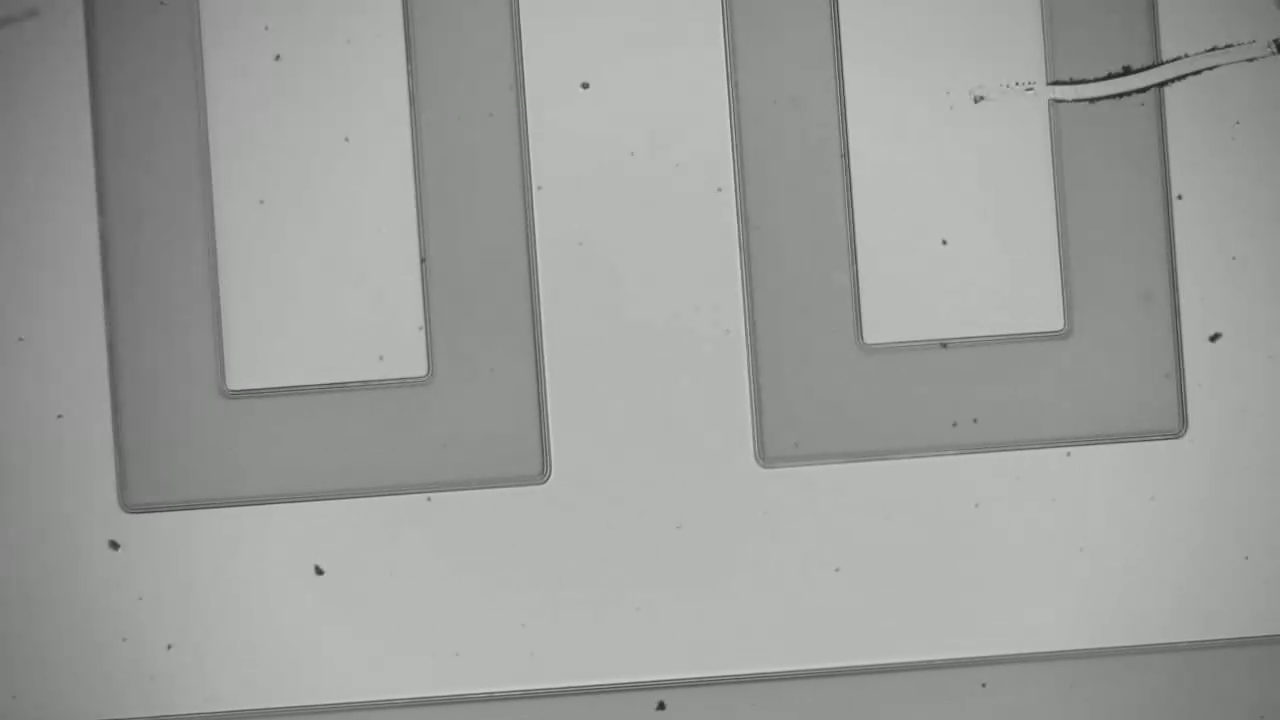Short_circuit: (1001, 36, 1195, 138)
